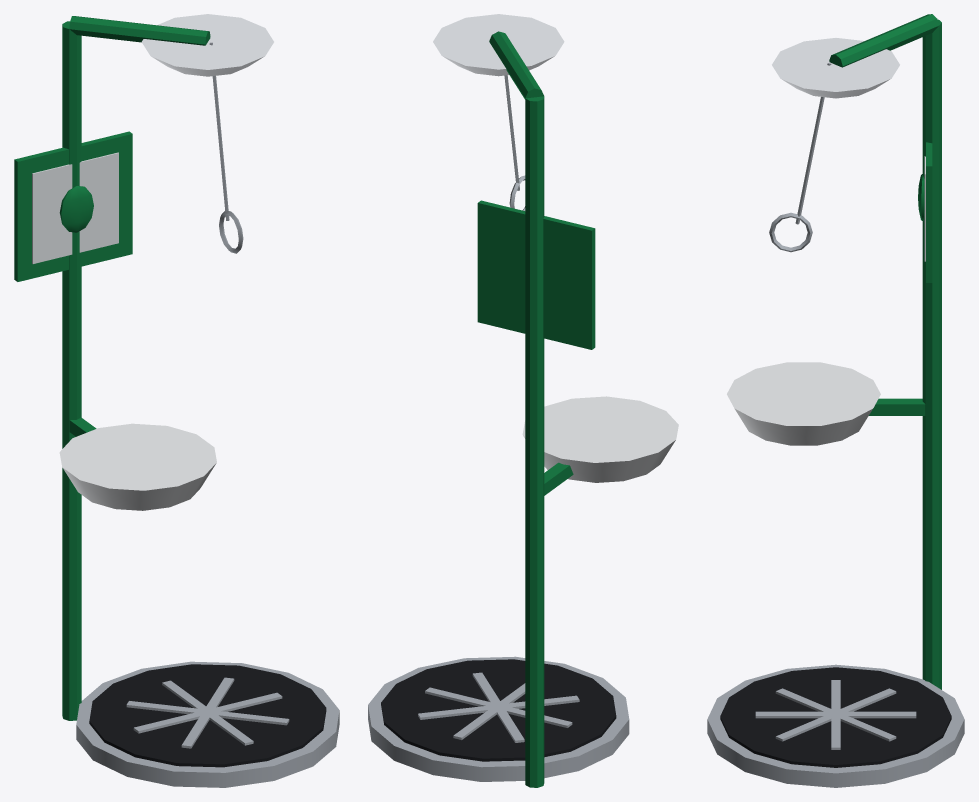
Rendered from safety_emergency_shower.glb.
3 views of the same model, side by side, from view 1: azimuth 30°, elevation 25°; view 2: azimuth 150°, elevation 25°; view 3: azimuth 270°, elevation 25° (orthographic). The views are drawn at different scales.
Visible parts, largest first — view 1: safety_emergency_shower; view 2: safety_emergency_shower; view 3: safety_emergency_shower.
Part boxes in pixels (left/top/right/bottom): safety_emergency_shower: left=14, top=14, right=339, bottom=787; safety_emergency_shower: left=368, top=14, right=678, bottom=787; safety_emergency_shower: left=707, top=14, right=964, bottom=787.
Bounding box in the file's own units: 0.934 × 2.33 × 0.8.
